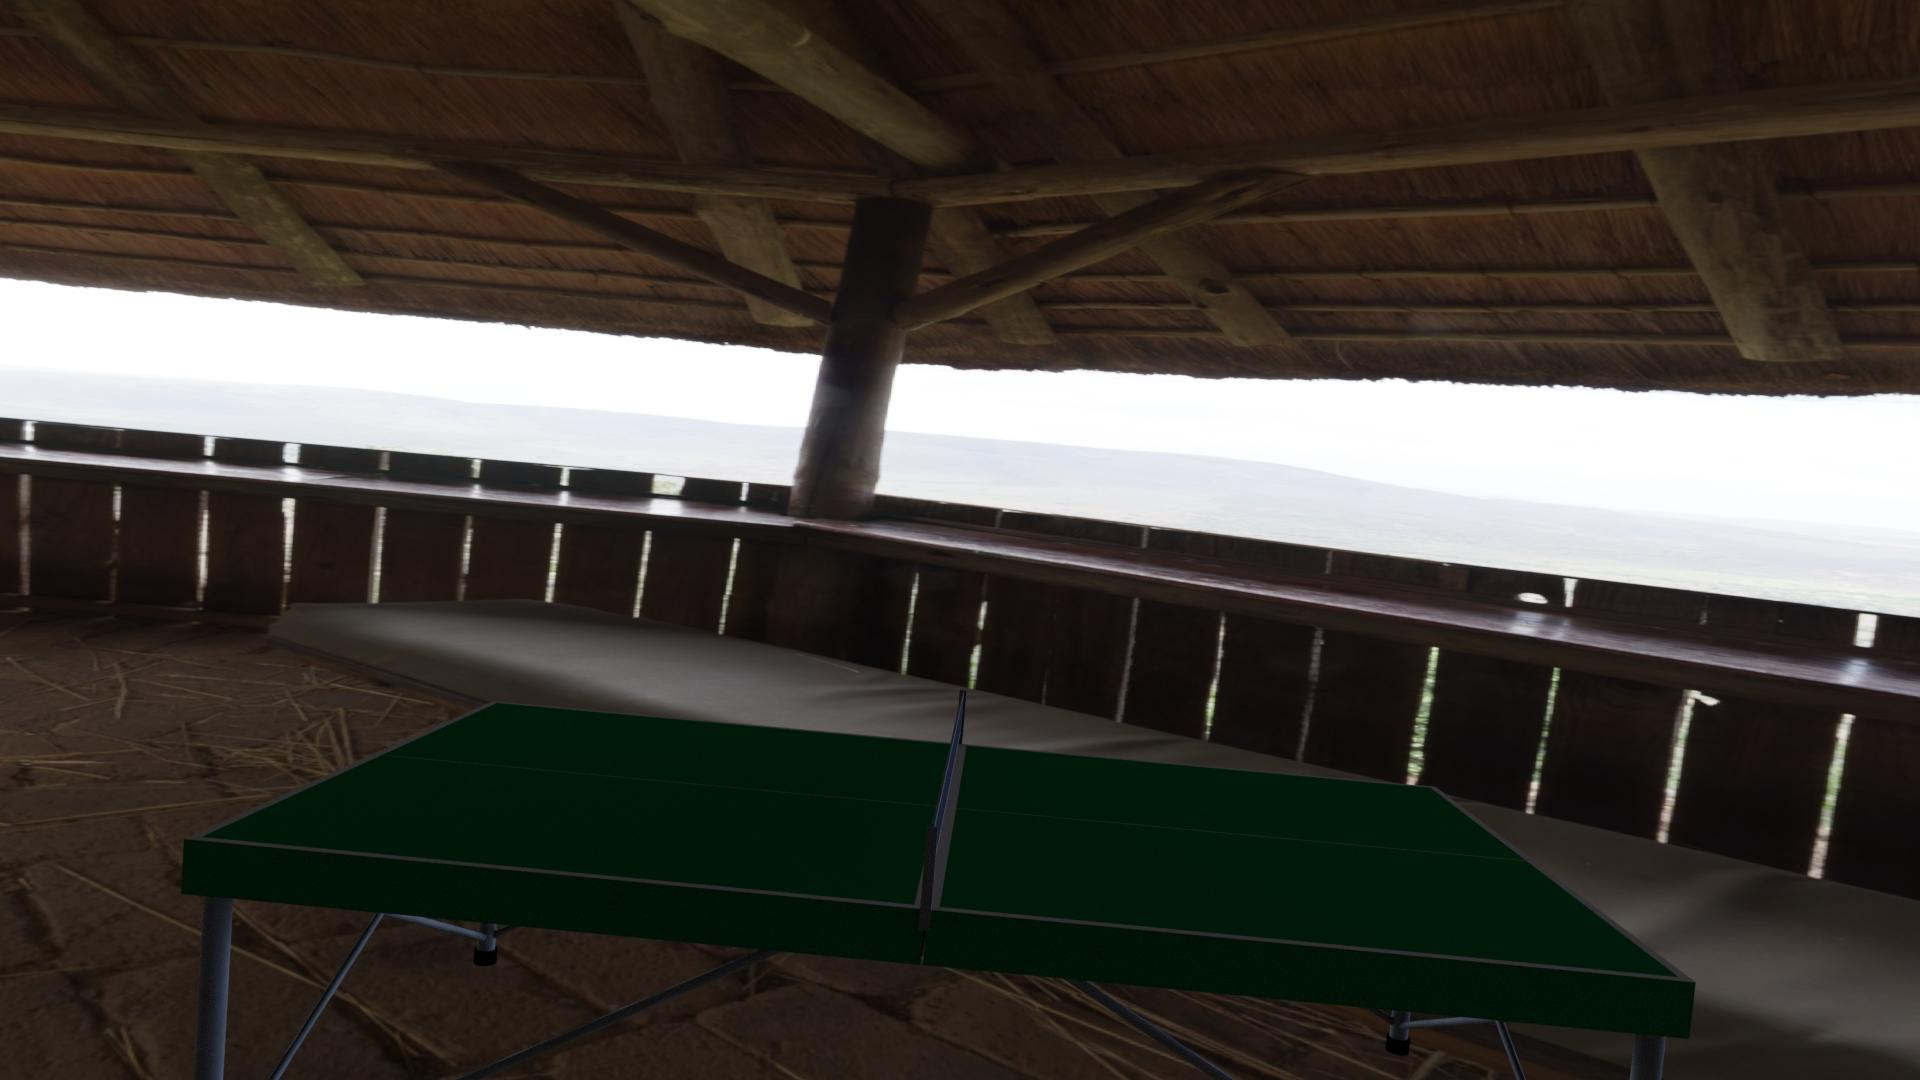table: (200, 703, 1679, 977)
